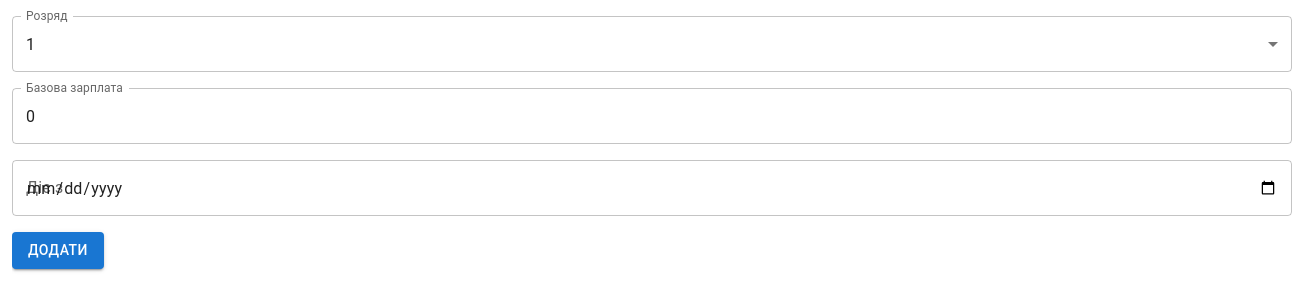
Scenario: GradeSalaryForm › renders options in select fields
Step 1. Click the dropdown named "Розряд" → x=31, y=44, box [26,34,35,54]
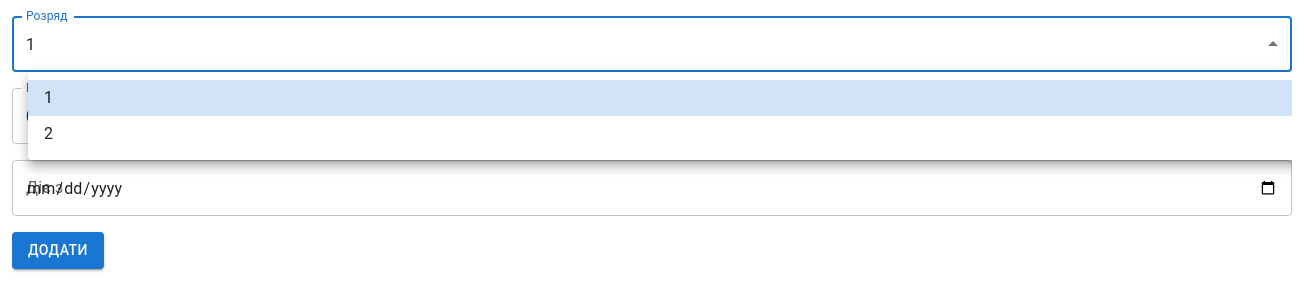
Expected: the option "2" is shown, [44,124,53,143]
